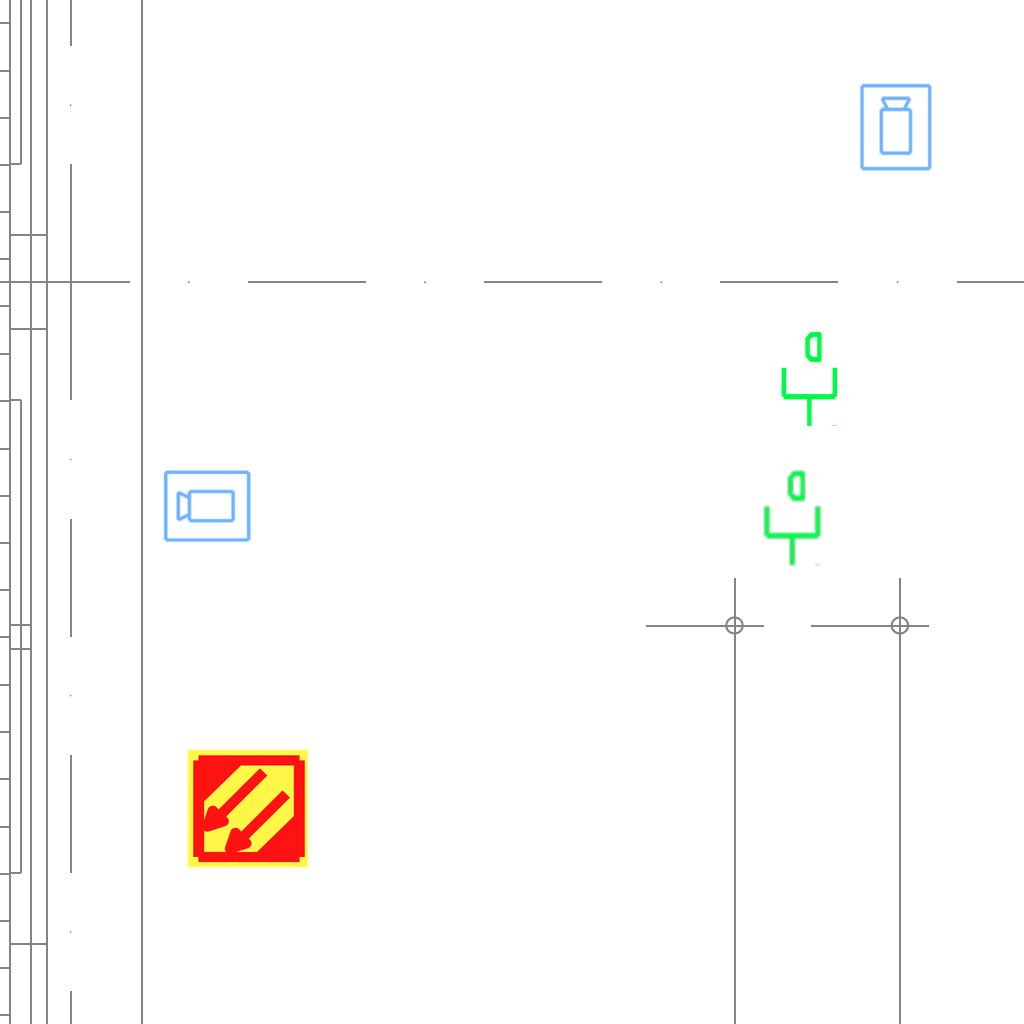ASR_Ansaugrauchmelder: (185, 746, 310, 871)
Datenanschluss_einfach: (773, 329, 842, 429), (756, 468, 825, 568)
KFO_Kamera_mit_Festobjektiv: (858, 82, 935, 173), (162, 467, 253, 544)
